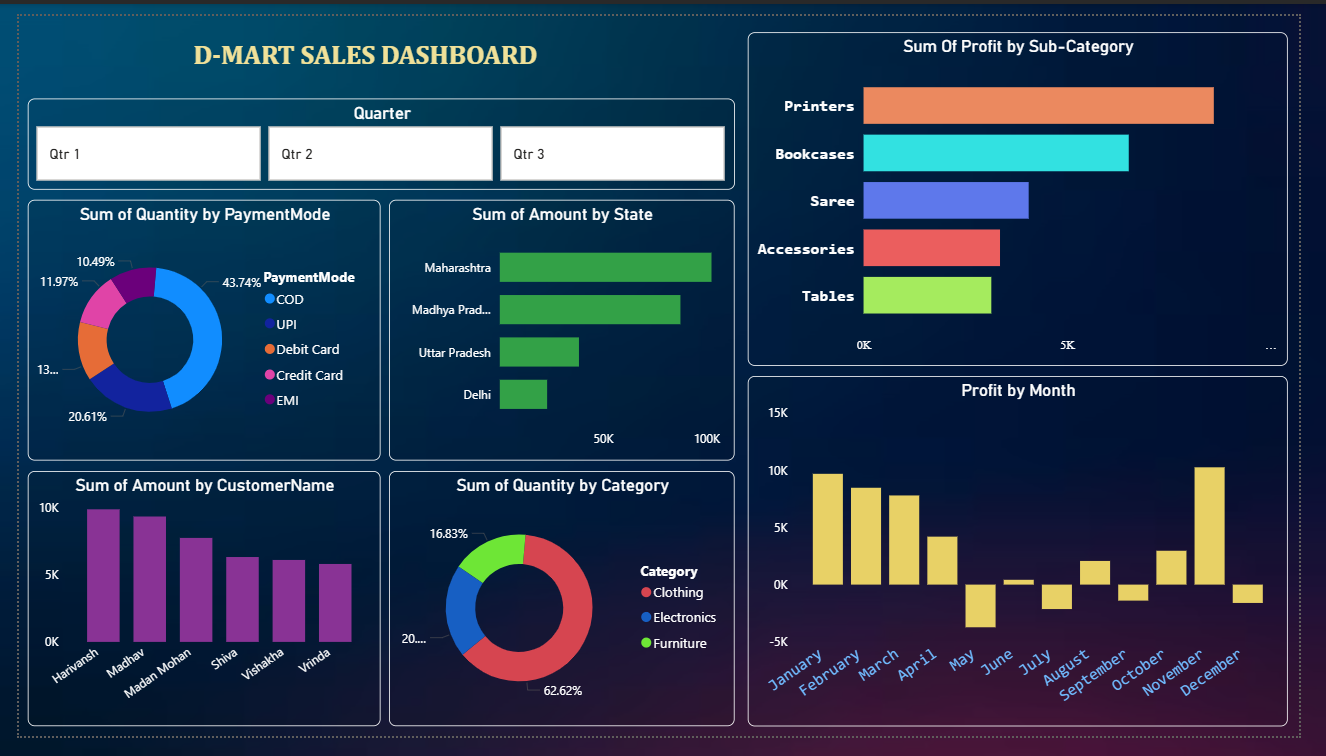

The dashboard page shown, as its layout file describes it:
{"tool":"powerbi","page":{"name":"Page 1","canvas":[1280,720],"ordinal":0},"visuals":[{"type":"textbox","box":[157.3,17.9,530.5,51.3],"z":0},{"type":"columnChart","title":"Profit by Month","fields":{"Category":["Orders.Order Date.Variation.Date Hierarchy.Month"],"Y":["Sum(Details.Profit)"]},"box":[728.8,360,540,350],"z":1000},{"type":"barChart","title":"Sum Of Profit by Sub-Category","fields":{"Category":["Details.Sub-Category"],"Y":["Sum(Details.Profit)"]},"box":[728.8,16.2,540,333.8],"z":2000},{"type":"donutChart","fields":{"Category":["Details.Category"],"Y":["Sum(Details.Quantity)"]},"box":[369.5,455.4,345.7,255.1],"z":3000},{"type":"donutChart","fields":{"Category":["Details.PaymentMode","Details.Category"],"Y":["Sum(Details.Quantity)"]},"box":[8.3,183.6,352.8,261.1],"z":4000},{"type":"clusteredBarChart","fields":{"Category":["Orders.State"],"Y":["Sum(Details.Amount)"]},"box":[369.5,183.6,345.7,261.1],"z":5000},{"type":"columnChart","fields":{"Category":["Orders.CustomerName"],"Y":["Sum(Details.Amount)"]},"box":[8.3,455.4,352.8,255.1],"z":6000},{"type":"advancedSlicerVisual","fields":{"Values":["Orders.Order Date.Variation.Date Hierarchy.Quarter"]},"box":[8.3,69.1,706.9,104.9],"z":7000}]}

Visuals, with their boxes in screenshot pixels (x1, y1, x2, y2), scaled from the page's 1280x720 canvas onto the 1326x756 screenshot:
textbox: {"x1": 163, "y1": 19, "x2": 713, "y2": 73}
"Profit by Month" columnChart: {"x1": 755, "y1": 378, "x2": 1314, "y2": 746}
"Sum Of Profit by Sub-Category" barChart: {"x1": 755, "y1": 17, "x2": 1314, "y2": 368}
donutChart - Details.Category x Sum(Details.Quantity): {"x1": 383, "y1": 478, "x2": 741, "y2": 746}
donutChart - Details.PaymentMode x Details.Category: {"x1": 9, "y1": 193, "x2": 374, "y2": 467}
clusteredBarChart - Orders.State x Sum(Details.Amount): {"x1": 383, "y1": 193, "x2": 741, "y2": 467}
columnChart - Orders.CustomerName x Sum(Details.Amount): {"x1": 9, "y1": 478, "x2": 374, "y2": 746}
advancedSlicerVisual - Orders.Order Date.Variation.Date Hierarchy.Quarter: {"x1": 9, "y1": 73, "x2": 741, "y2": 183}
